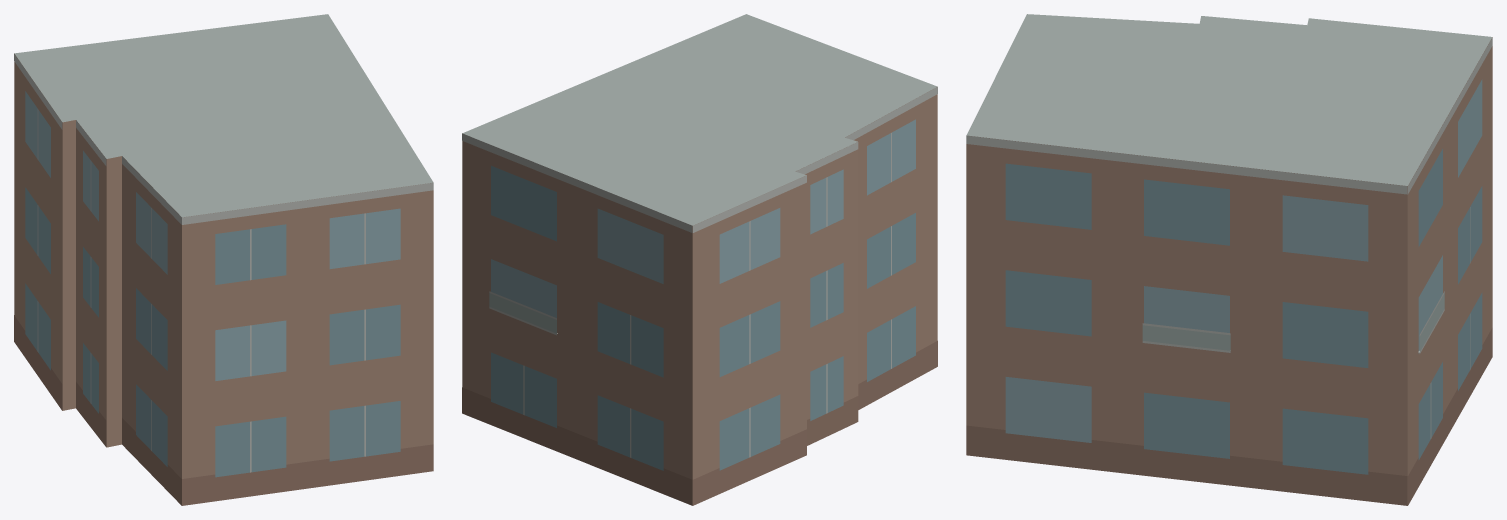
Rendered from survey-upis-32572583.glb.
The picture shows the model from 3 angles, left to right: view 1: azimuth 30°, elevation 25°; view 2: azimuth 150°, elevation 25°; view 3: azimuth 270°, elevation 25°; orthographic projection. The views are drawn at different scales.
Parts seen in each view (by area): view 1: survey-upis-32572583.tmp; view 2: survey-upis-32572583.tmp; view 3: survey-upis-32572583.tmp.
Boxes of the visible parts, <box> form: survey-upis-32572583.tmp: <box>14,14,433,505</box>; survey-upis-32572583.tmp: <box>462,14,937,505</box>; survey-upis-32572583.tmp: <box>966,14,1492,505</box>.
Bounding box in the file's own units: 10.57 × 9.15 × 13.65.
